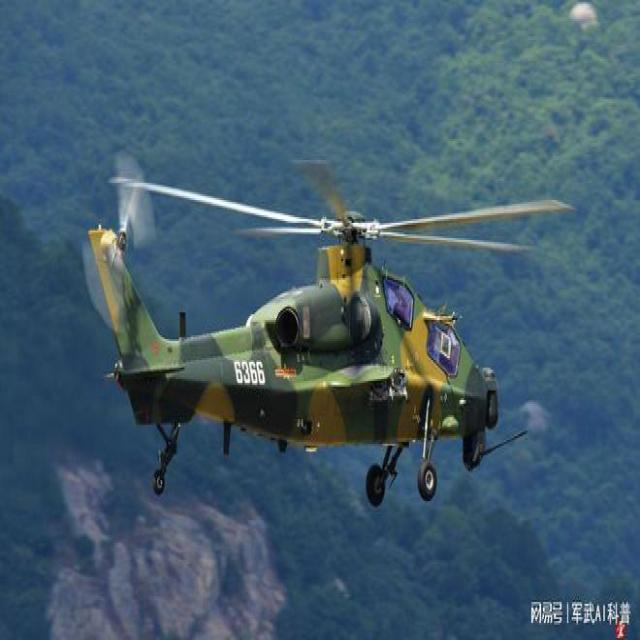MIL_HELO: (75, 123, 567, 511)
